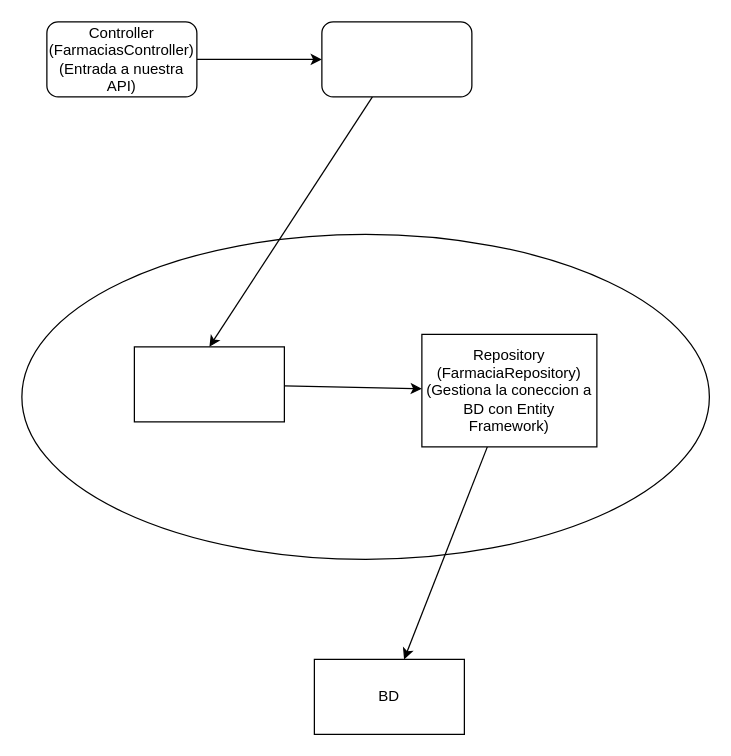
Image size: 731x756. Some labels were removed from this diagram. Here are the shapes that lost their labels. From the top down, the centre of each, then its label:
the point at 396,59: Logica (FarmaciaService)
the point at 208,384: UnitOfWork (Administrador de Repositorios)
